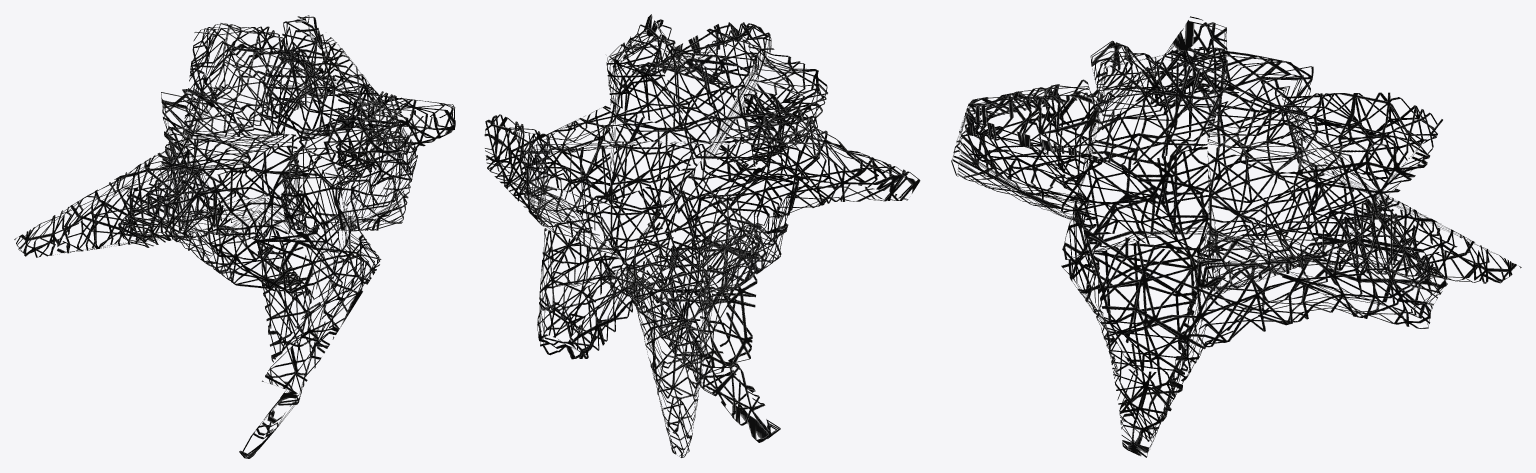
The model's file is caillou_texture2.FBX.
The picture shows the model from 3 angles, left to right: view 1: azimuth 30°, elevation 25°; view 2: azimuth 150°, elevation 25°; view 3: azimuth 270°, elevation 25°; orthographic projection. The views are drawn at different scales.
Parts seen in each view (by area): view 1: Cube; view 2: Cube; view 3: Cube.
Boxes of the visible parts, bbox=[...] form: Cube: bbox=[14, 15, 455, 458]; Cube: bbox=[484, 14, 920, 457]; Cube: bbox=[951, 16, 1521, 457].
Bounding box in the file's own units: 595 × 612 × 649.
